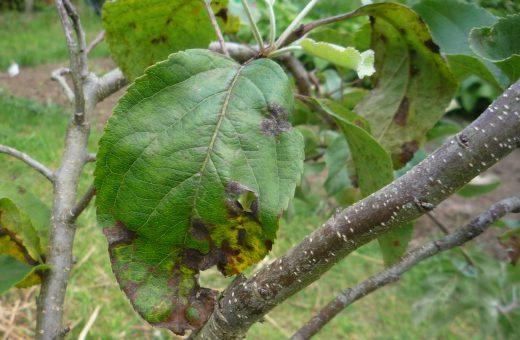Apple Scab Leaf: (93, 40, 295, 336)
